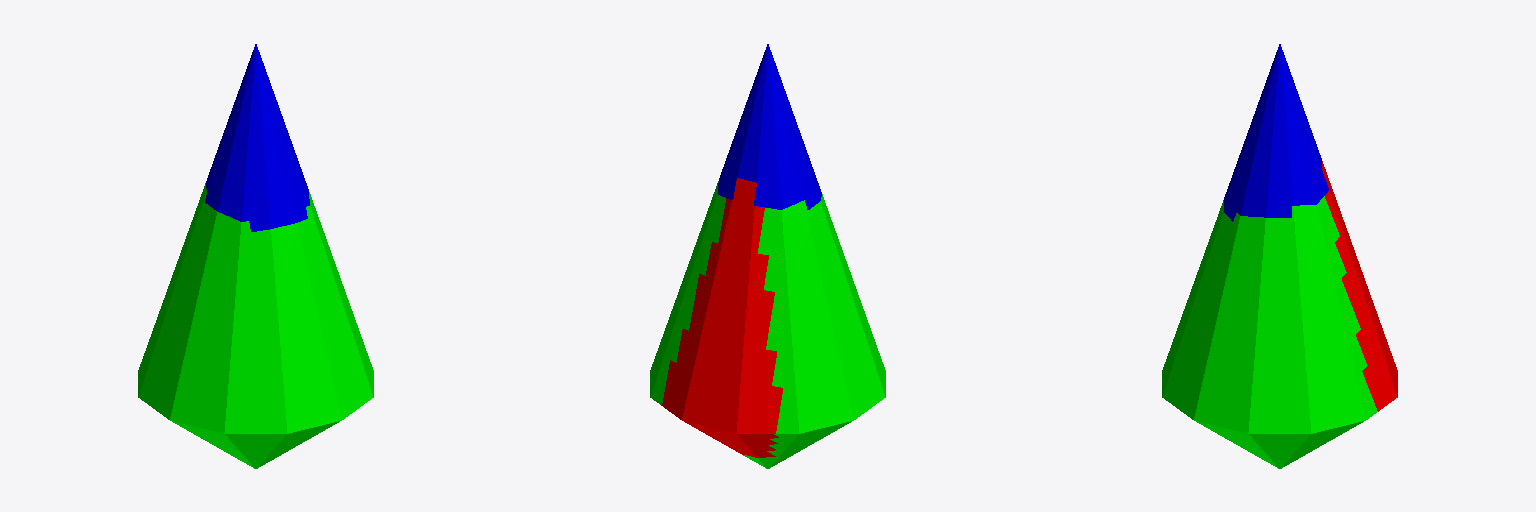
3 views of the same model, side by side, from view 1: azimuth 30°, elevation 25°; view 2: azimuth 150°, elevation 25°; view 3: azimuth 270°, elevation 25° (orthographic).
Parts seen in each view (by area): view 1: cone; view 2: cone; view 3: cone.
Boxes of the visible parts, x1,y1,x2,y2 form: cone: [138, 44, 373, 468]; cone: [650, 44, 885, 468]; cone: [1162, 44, 1397, 468].
Bounding box in the file's own units: 0.625 × 1.25 × 0.625.
1 materials, 1 textured.